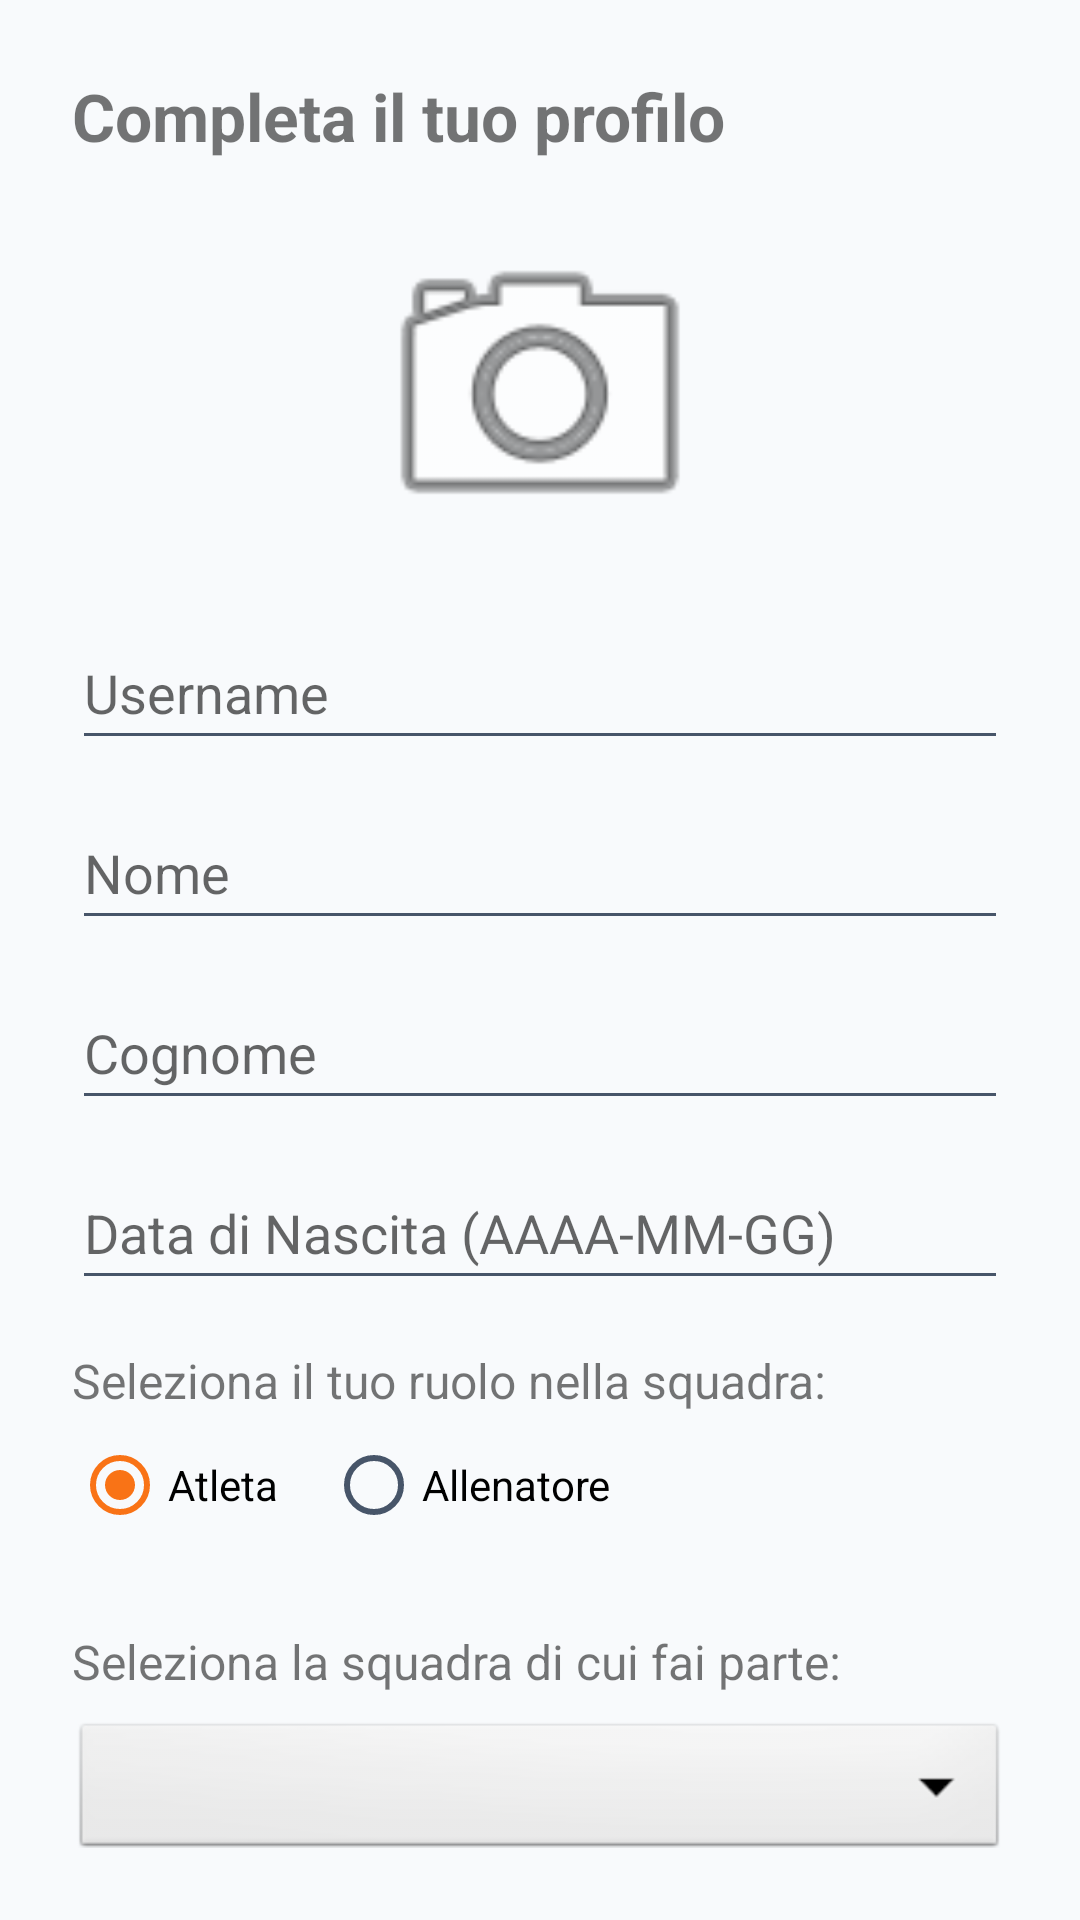

Named icons in this screenshot (1080px×1920px) and their bounding boxes, {"x1": x1, "y1": y1, "x2": x2, "y2": y2}:
camera: {"x1": 401, "y1": 271, "x2": 679, "y2": 493}
